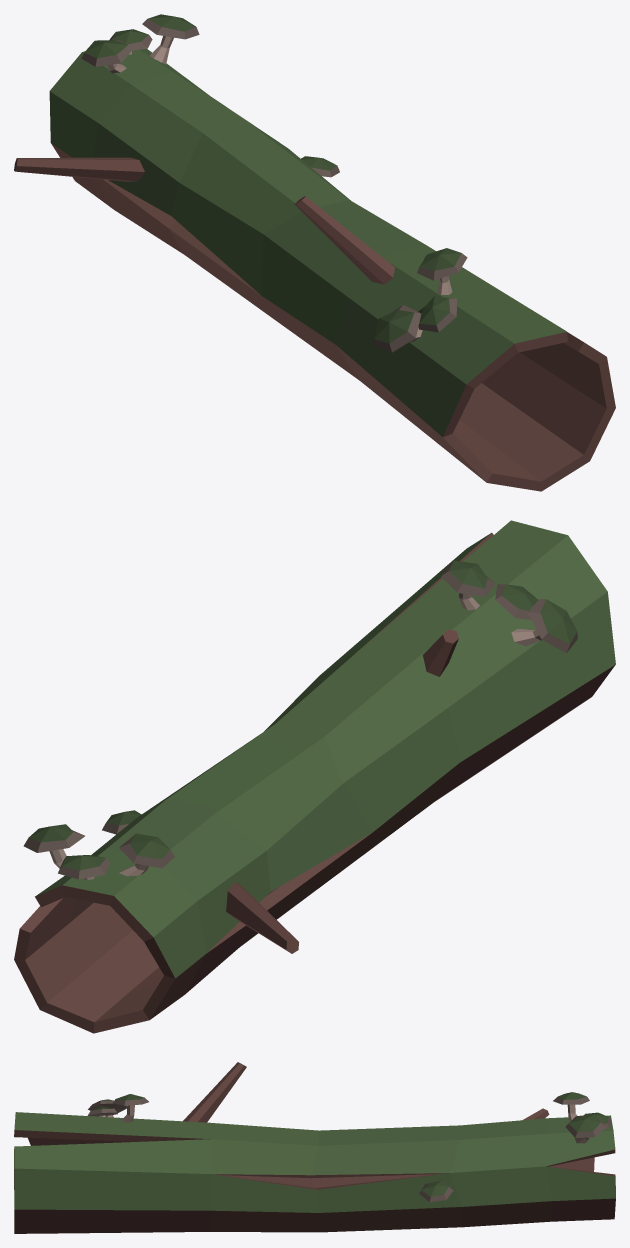
The model's file is nat_log_moss_1.glb.
The picture shows the model from 3 angles, top to bottom: view 1: azimuth 30°, elevation 25°; view 2: azimuth 150°, elevation 25°; view 3: azimuth 270°, elevation 25°; orthographic projection. The views are drawn at different scales.
Parts seen in each view (by area): view 1: nat_log_moss_1; view 2: nat_log_moss_1; view 3: nat_log_moss_1.
Boxes of the visible parts, box(x1,y1,x2,y2) form: nat_log_moss_1: box(14, 14, 615, 491); nat_log_moss_1: box(14, 520, 615, 1033); nat_log_moss_1: box(14, 1062, 615, 1233).
Bounding box in the file's own units: 1.04 × 0.8 × 3.1.
